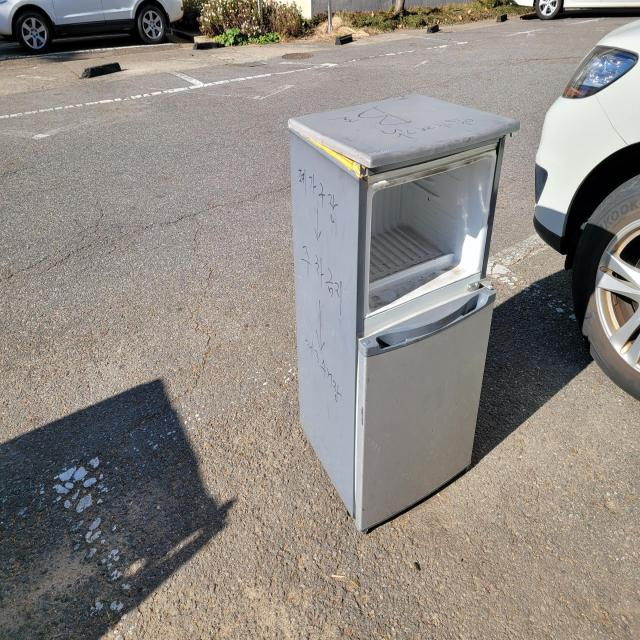refrigerator: (287, 93, 519, 536)
